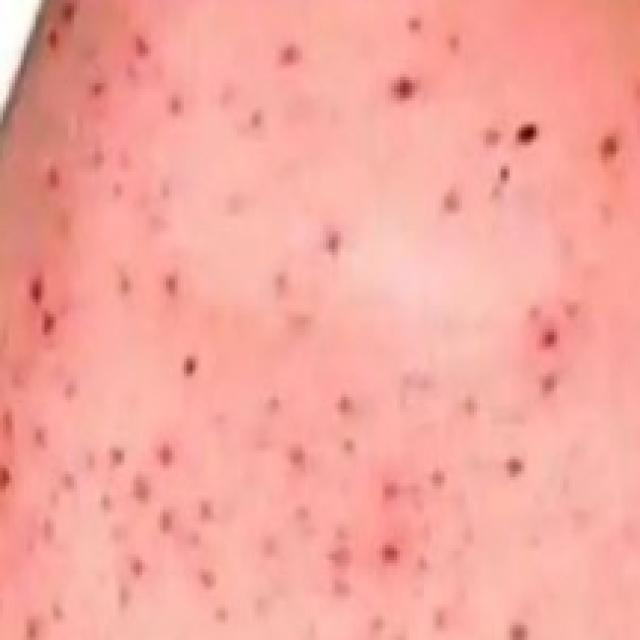Eczema: (17, 40, 640, 640)
